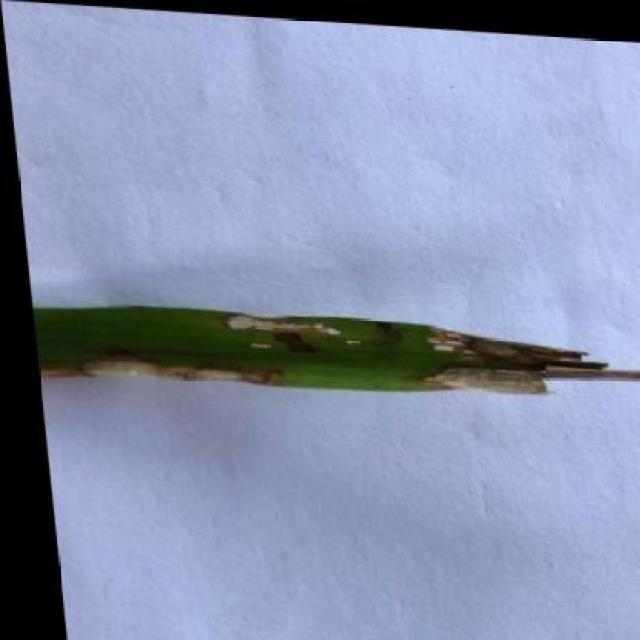Brown_Spot: (23, 291, 640, 418)
